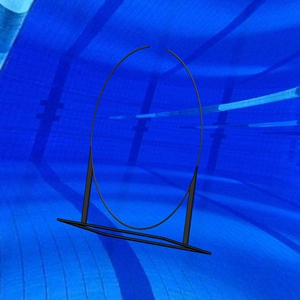circle: (57, 44, 213, 257)
